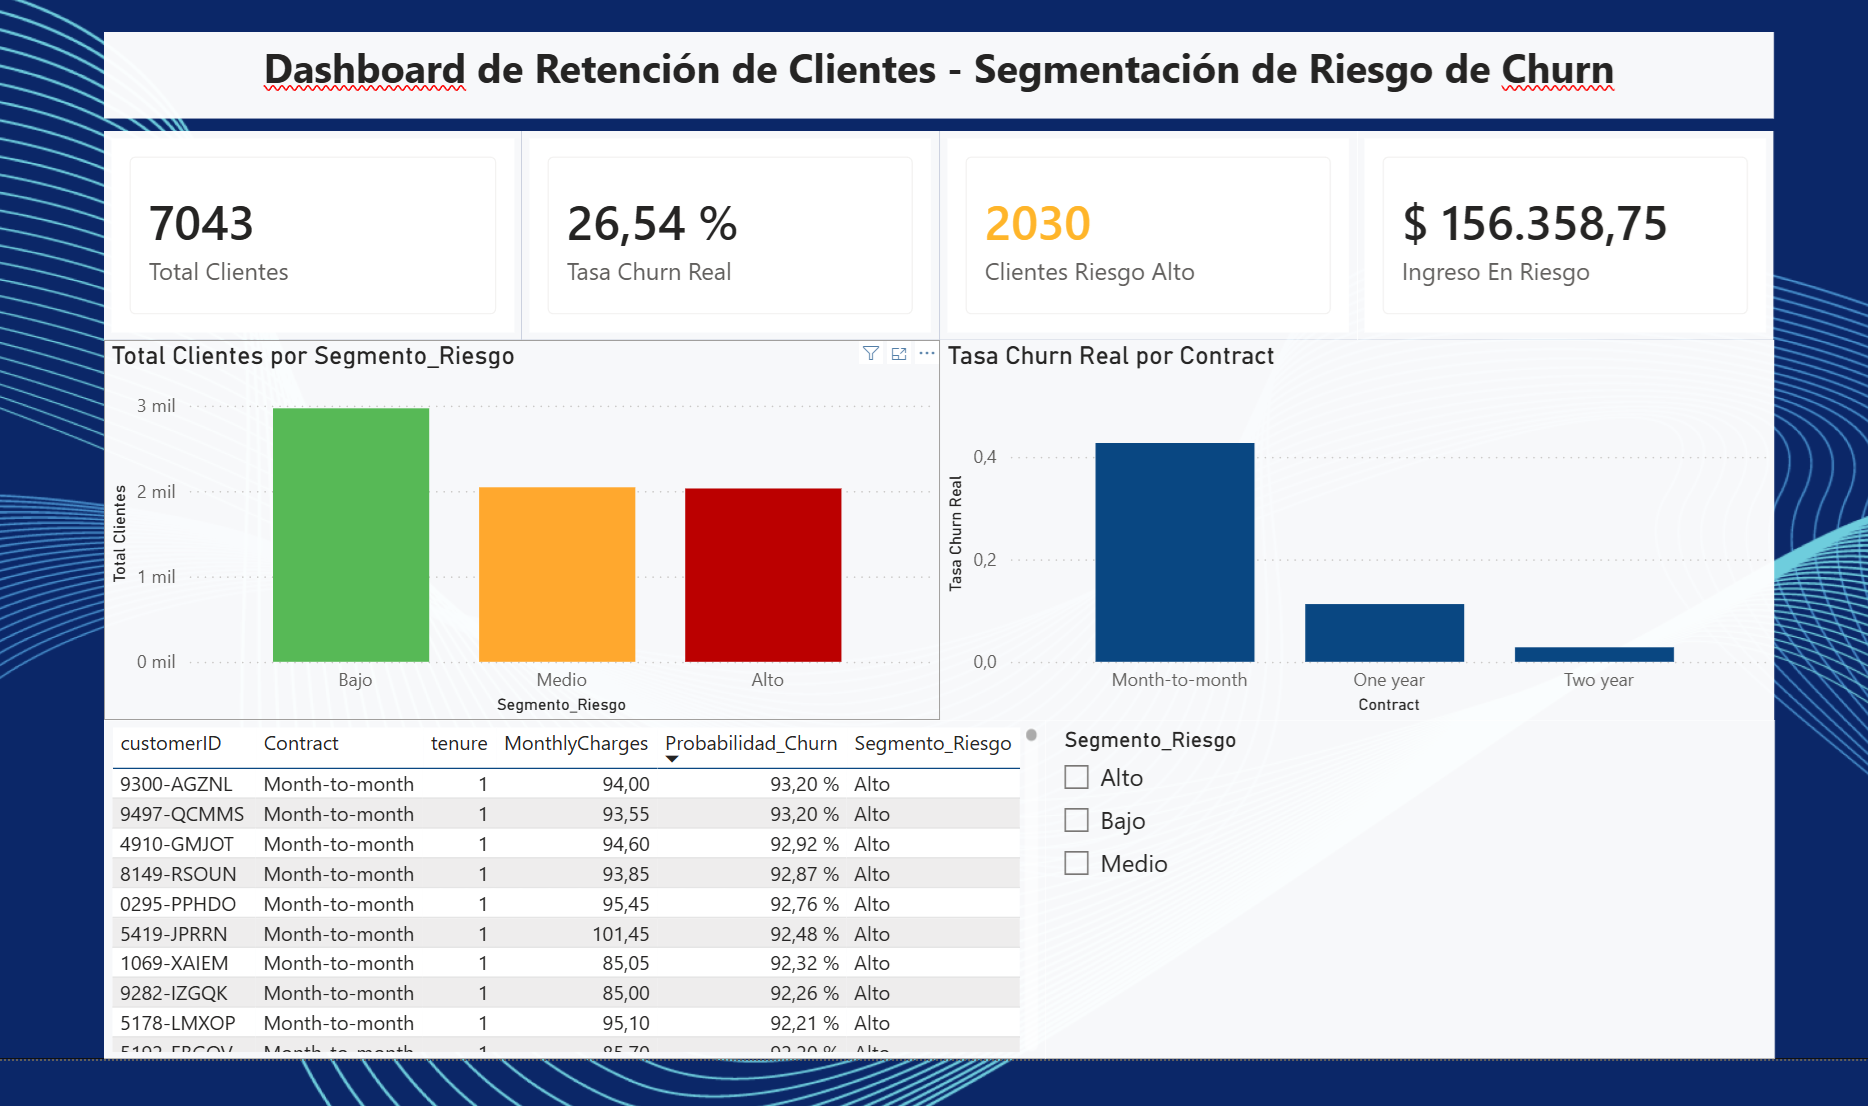

Layout of this report page (visuals, bound fields, positions):
{"tool":"powerbi","page":{"name":"Página 1","canvas":[1280,720],"ordinal":0},"visuals":[{"type":"cardVisual","fields":{"Data":["churn_dashboard_dataset.Total Clientes"]},"box":[92.5,97.8,280.5,140.2],"z":0},{"type":"cardVisual","fields":{"Data":["churn_dashboard_dataset.Tasa Churn Real"]},"box":[372.6,97.8,279.7,140.2],"z":1000},{"type":"cardVisual","fields":{"Data":["churn_dashboard_dataset.Clientes Riesgo Alto"]},"box":[652.5,97.9,279.7,140.2],"z":2000},{"type":"cardVisual","fields":{"Data":["churn_dashboard_dataset.Ingreso En Riesgo"]},"box":[932.5,97.9,279.2,140.4],"z":3000},{"type":"clusteredColumnChart","fields":{"Category":["churn_dashboard_dataset.Segmento_Riesgo"],"Y":["churn_dashboard_dataset.Total Clientes"]},"box":[92.5,237.9,560.3,254.7],"z":4000},{"type":"clusteredColumnChart","fields":{"Y":["churn_dashboard_dataset.Tasa Churn Real"],"Category":["churn_dashboard_dataset.Contract"]},"box":[652.7,237.9,558.9,254.7],"z":5000},{"type":"tableEx","fields":{"Values":["churn_dashboard_dataset.customerID","churn_dashboard_dataset.Contract","churn_dashboard_dataset.tenure","churn_dashboard_dataset.MonthlyCharges","churn_dashboard_dataset.Probabilidad_Churn","churn_dashboard_dataset.Segmento_Riesgo"]},"box":[92.5,492.6,630.6,227.2],"z":6000},{"type":"slicer","fields":{"Values":["churn_dashboard_dataset.Segmento_Riesgo"]},"box":[723.1,492.6,488.5,227.2],"z":7000},{"type":"textbox","box":[92.5,31.5,1119.2,58.3],"z":7001}]}

Visuals, with their boxes in screenshot pixels (x1, y1, x2, y2):
cardVisual - churn_dashboard_dataset.Total Clientes: rect(99, 126, 518, 336)
cardVisual - churn_dashboard_dataset.Tasa Churn Real: rect(517, 126, 934, 336)
cardVisual - churn_dashboard_dataset.Clientes Riesgo Alto: rect(935, 127, 1352, 336)
cardVisual - churn_dashboard_dataset.Ingreso En Riesgo: rect(1352, 127, 1769, 336)
clusteredColumnChart - churn_dashboard_dataset.Segmento_Riesgo x churn_dashboard_dataset.Total Clientes: rect(99, 336, 935, 716)
clusteredColumnChart - churn_dashboard_dataset.Tasa Churn Real x churn_dashboard_dataset.Contract: rect(935, 336, 1769, 716)
tableEx - churn_dashboard_dataset.customerID x churn_dashboard_dataset.Contract: rect(99, 716, 1040, 1055)
slicer - churn_dashboard_dataset.Segmento_Riesgo: rect(1040, 716, 1769, 1055)
textbox: rect(99, 28, 1769, 115)
